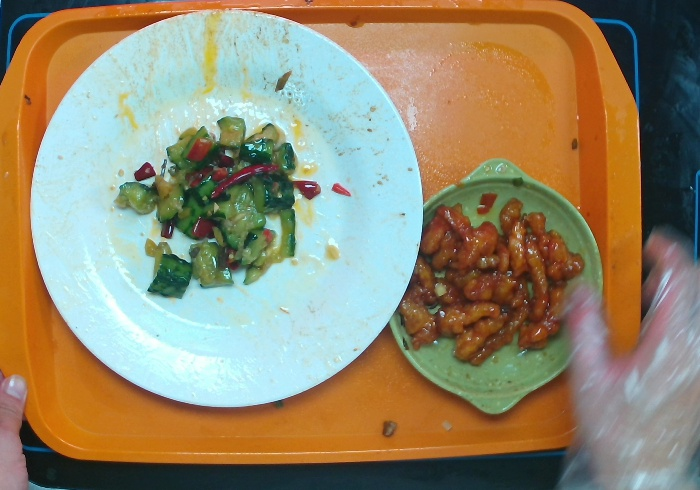NLDX-Da_Yuan_Pan: (29, 8, 422, 410)
NLDX-Lv_Hua_Shuang_Er_Die: (386, 158, 605, 416)
